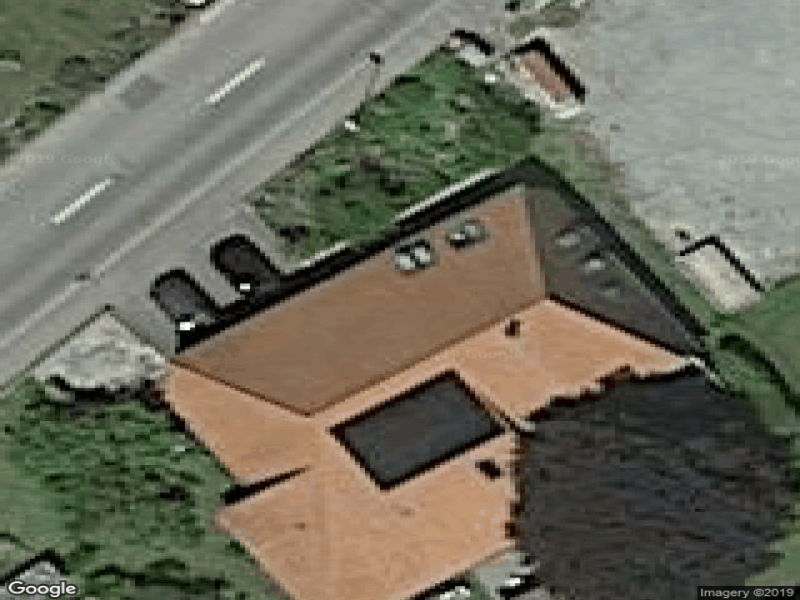pv: (330, 373, 510, 497)
